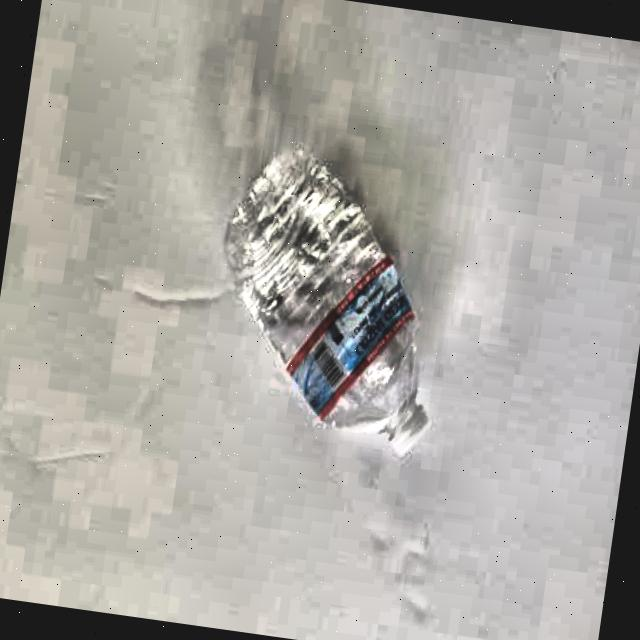plastic: (201, 139, 461, 464)
